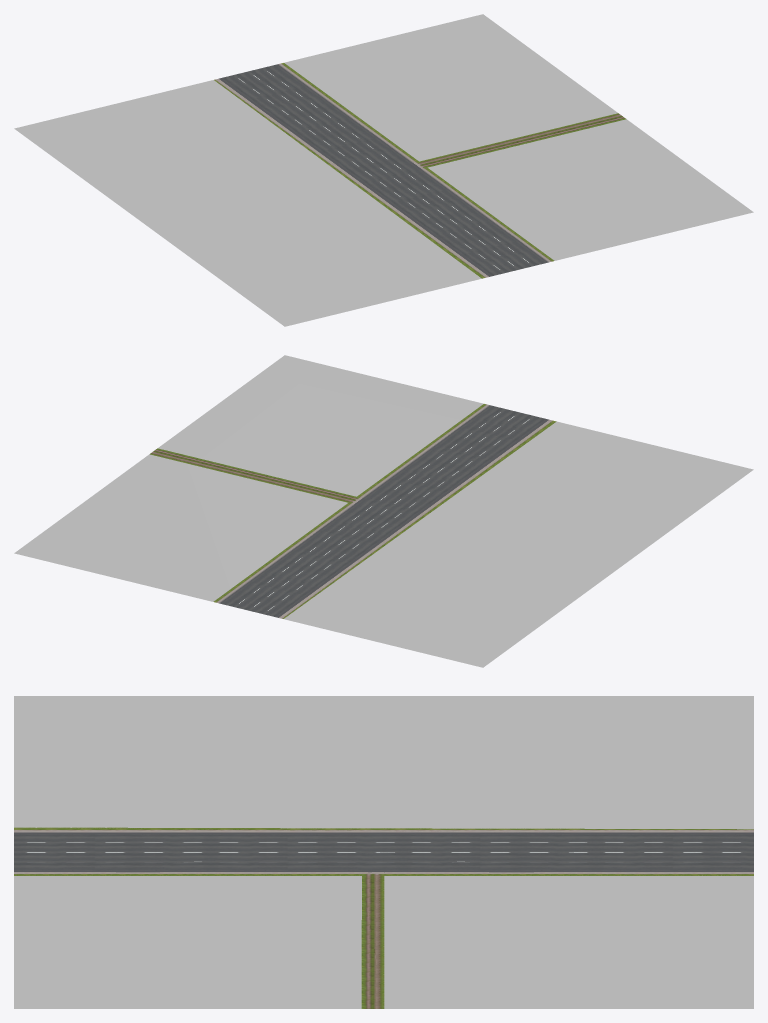
Rendered from road2r.FBX.
3 renders of one model, top to bottom at view 1: azimuth 30°, elevation 25°; view 2: azimuth 150°, elevation 25°; view 3: azimuth 270°, elevation 25°, orthographic. The views are drawn at different scales.
Parts seen in each view (by area): view 1: road; view 2: road; view 3: road.
Part boxes in pixels (bbox=[...]): road: bbox=[14, 14, 753, 326]; road: bbox=[14, 355, 753, 667]; road: bbox=[14, 696, 753, 1008].
Bounding box in the file's own units: 12000 × 3.61 × 12000.
